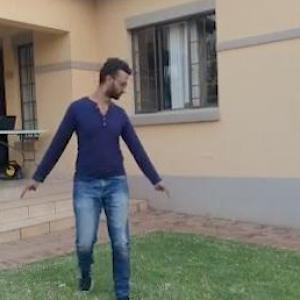land: (24, 58, 180, 299)
